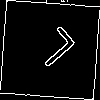L: (25, 25, 78, 76)
